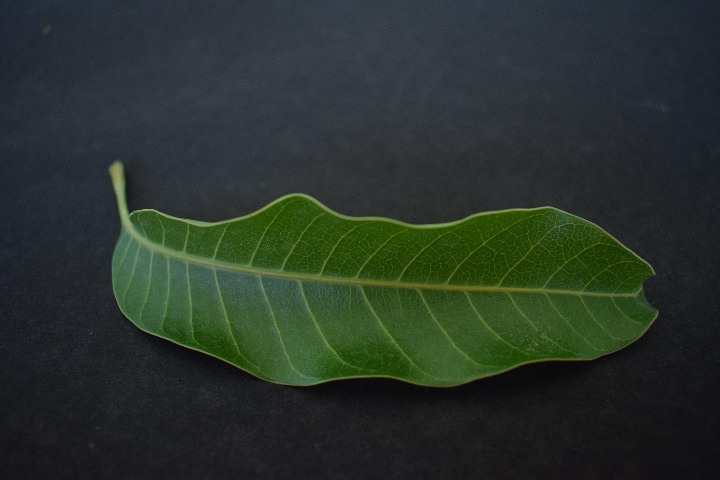healthy: (76, 186, 671, 395)
